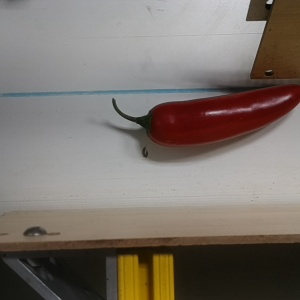Cut Point: (135, 104, 170, 146)
